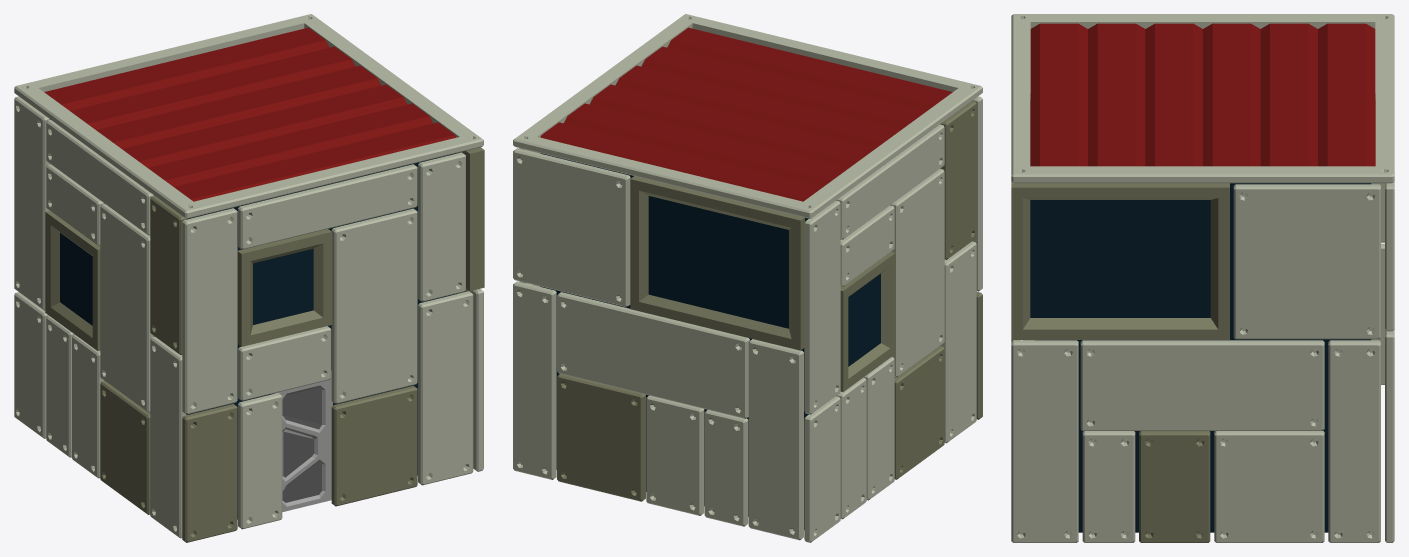
The picture shows the model from 3 angles, left to right: view 1: azimuth 30°, elevation 25°; view 2: azimuth 150°, elevation 25°; view 3: azimuth 270°, elevation 25°; orthographic projection. The views are drawn at different scales.
Parts seen in each view (by area): view 1: H_5X5X5; view 2: H_5X5X5; view 3: H_5X5X5.
Boxes of the visible parts, <box> form: H_5X5X5: <box>14,14,484,542</box>; H_5X5X5: <box>513,14,982,542</box>; H_5X5X5: <box>1011,14,1394,542</box>.
Bounding box in the file's own units: 500 × 531 × 500.
